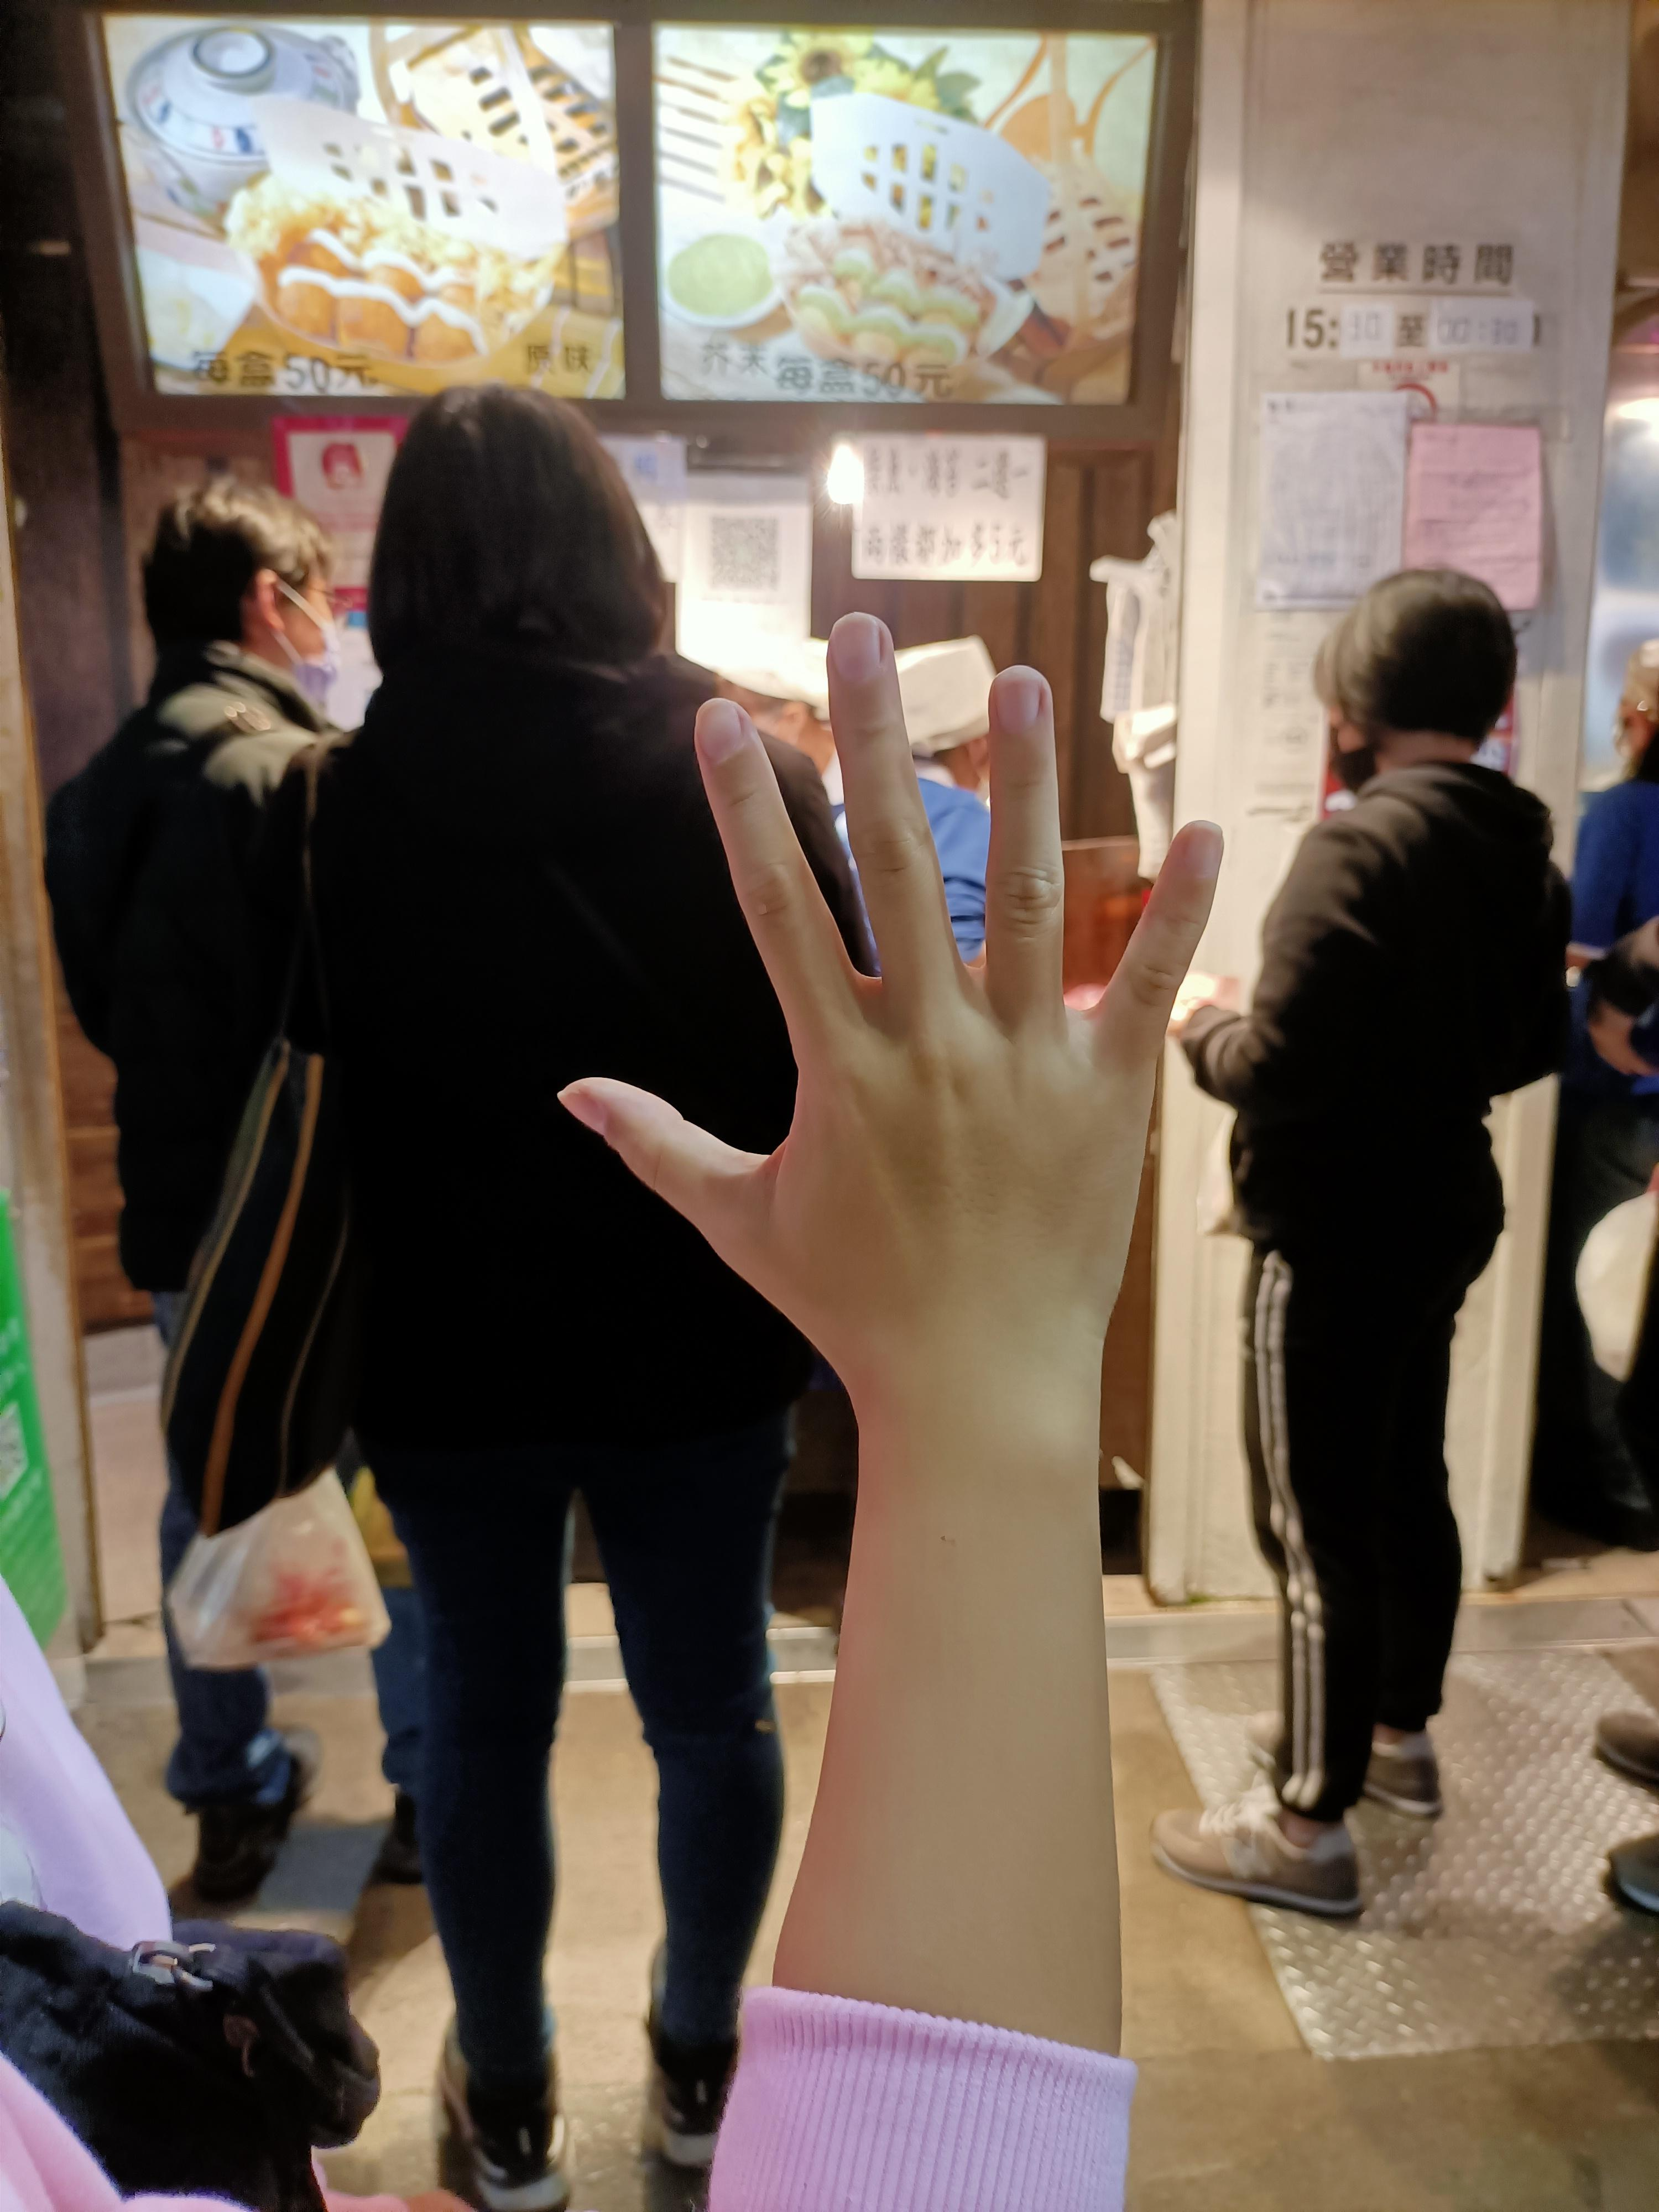hand: (558, 606, 1227, 1383)
